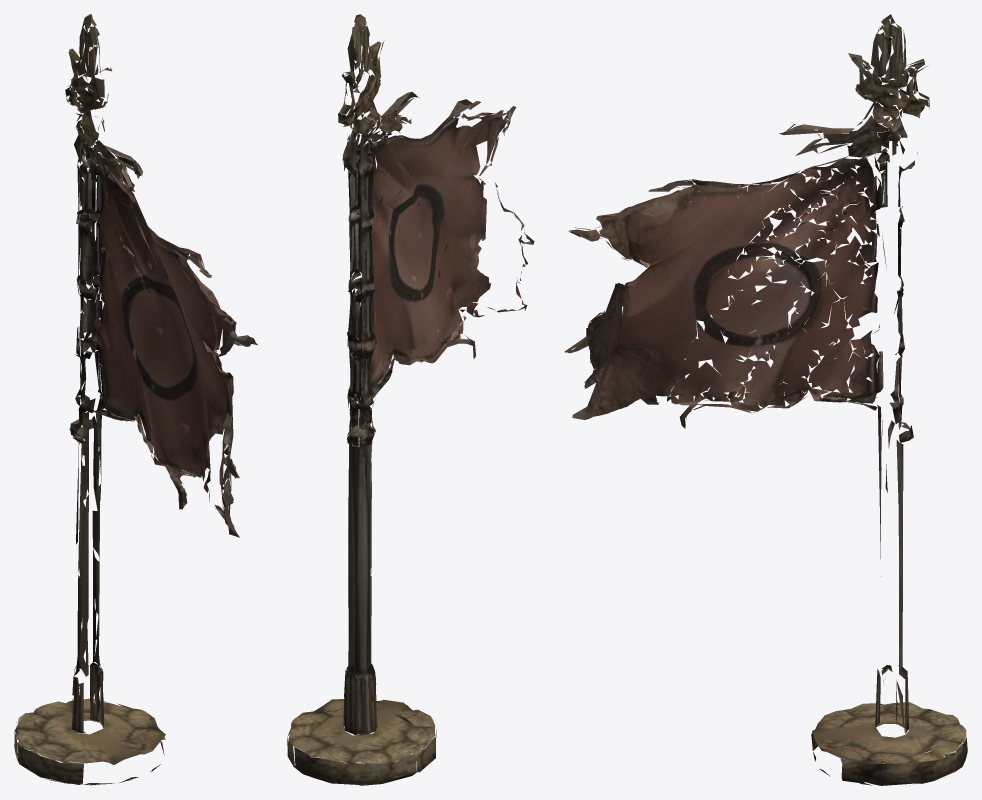
The model's file is warBanner.glb.
The picture shows the model from 3 angles, left to right: view 1: azimuth 30°, elevation 25°; view 2: azimuth 150°, elevation 25°; view 3: azimuth 270°, elevation 25°; orthographic projection.
Visible parts, largest first — view 1: Prop_warBanner; view 2: Prop_warBanner; view 3: Prop_warBanner.
Part boxes in pixels (x1=…): Prop_warBanner: x1=14, y1=14, x2=257, y2=785; Prop_warBanner: x1=287, y1=14, x2=534, y2=785; Prop_warBanner: x1=564, y1=14, x2=967, y2=785.
Size of the model in its own units: 0.6561 by 3.6 by 1.77.
Materials: 1 (1 with a texture image).
